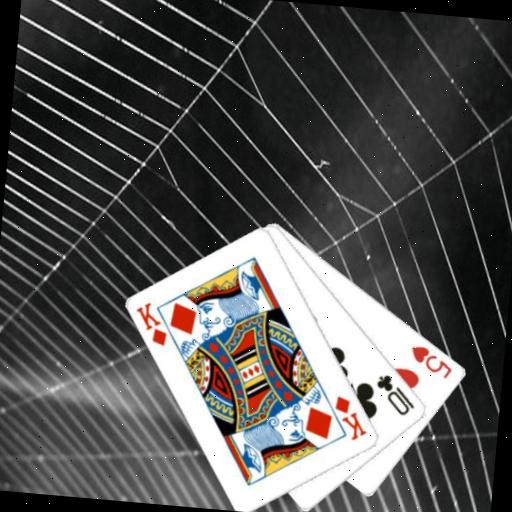10C: (371, 370, 420, 419)
5H: (407, 341, 457, 381)
KD: (329, 392, 372, 444), (131, 298, 172, 348)
